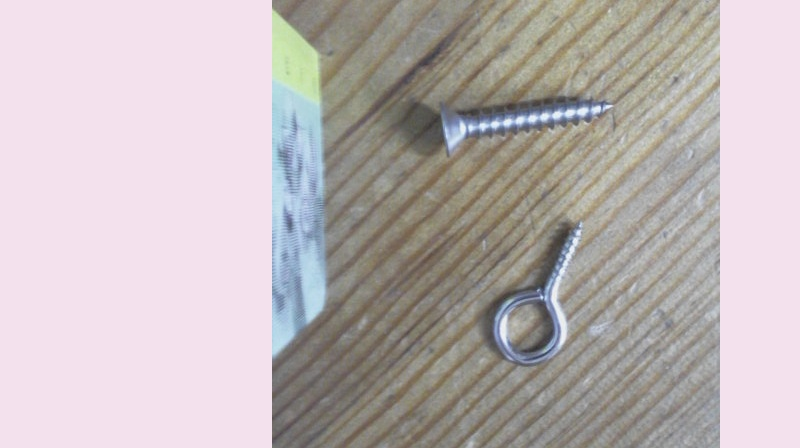O001: (484, 211, 586, 369)
S001: (426, 85, 614, 159)
